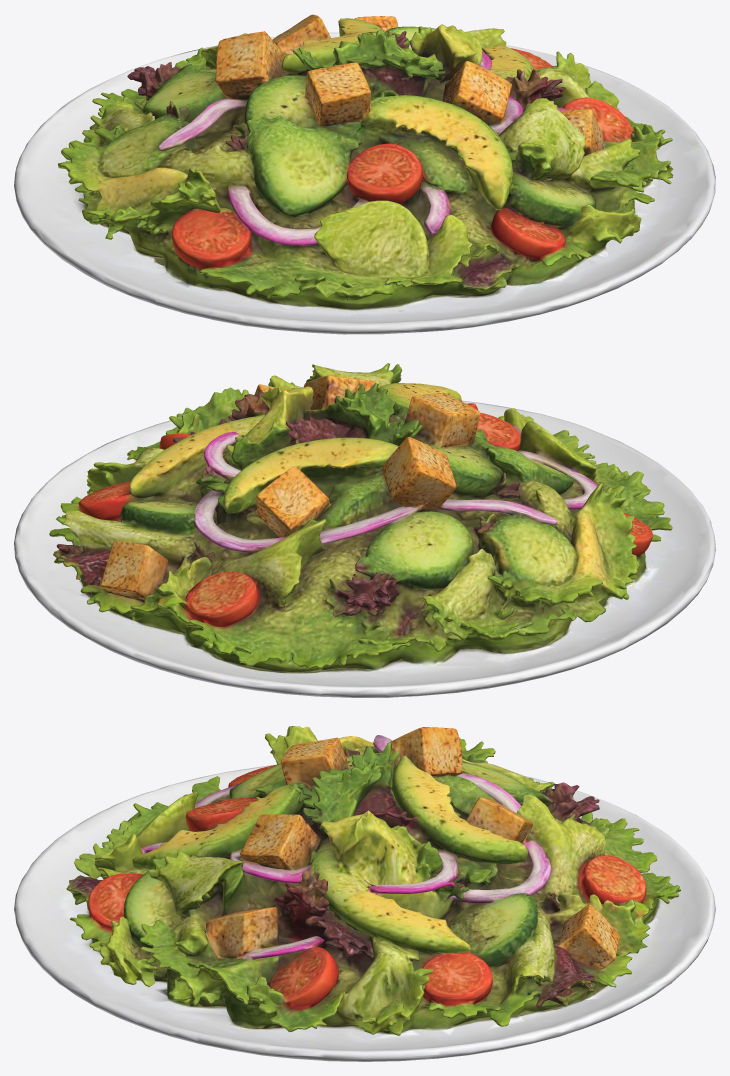
The model's file is ensalada.glb.
The picture shows the model from 3 angles, top to bottom: view 1: azimuth 30°, elevation 25°; view 2: azimuth 150°, elevation 25°; view 3: azimuth 270°, elevation 25°; orthographic projection.
Visible parts, largest first — view 1: tripo_node_c87f1970-6ee2-40a6-bad0-40dff9099fbd; view 2: tripo_node_c87f1970-6ee2-40a6-bad0-40dff9099fbd; view 3: tripo_node_c87f1970-6ee2-40a6-bad0-40dff9099fbd.
Boxes of the visible parts, left/top/right/bottom form: tripo_node_c87f1970-6ee2-40a6-bad0-40dff9099fbd: left=14, top=14, right=715, bottom=334; tripo_node_c87f1970-6ee2-40a6-bad0-40dff9099fbd: left=14, top=363, right=715, bottom=697; tripo_node_c87f1970-6ee2-40a6-bad0-40dff9099fbd: left=14, top=726, right=715, bottom=1061.
Bounding box in the file's own units: 0.2692 × 0.0705 × 0.27.
Materials: 1 (1 with a texture image).
